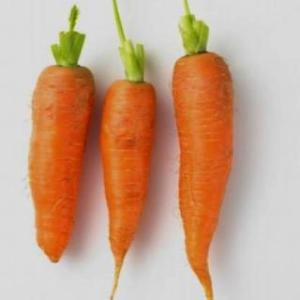carrot: (160, 40, 248, 298), (20, 59, 94, 271), (94, 70, 156, 288)
